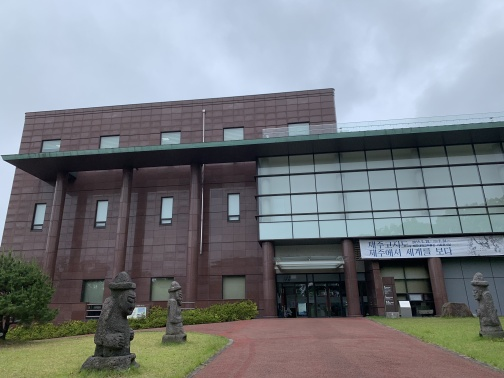Museum: (8, 111, 501, 335), (16, 96, 391, 330)
